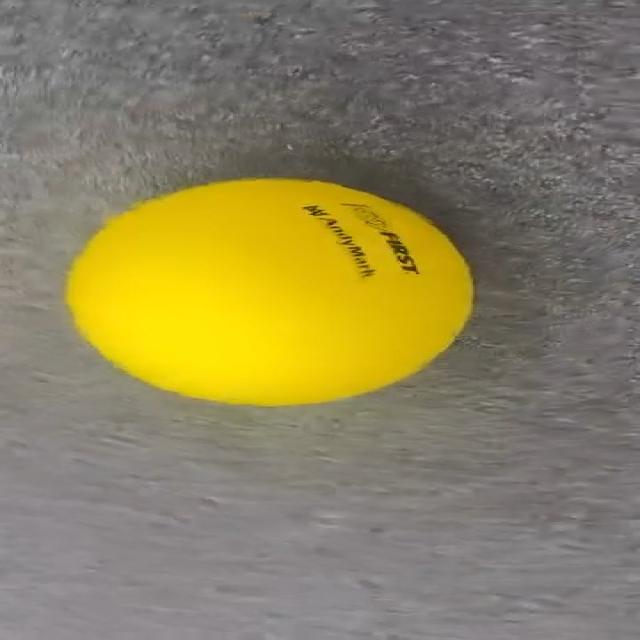Fuels: (66, 178, 468, 402)
